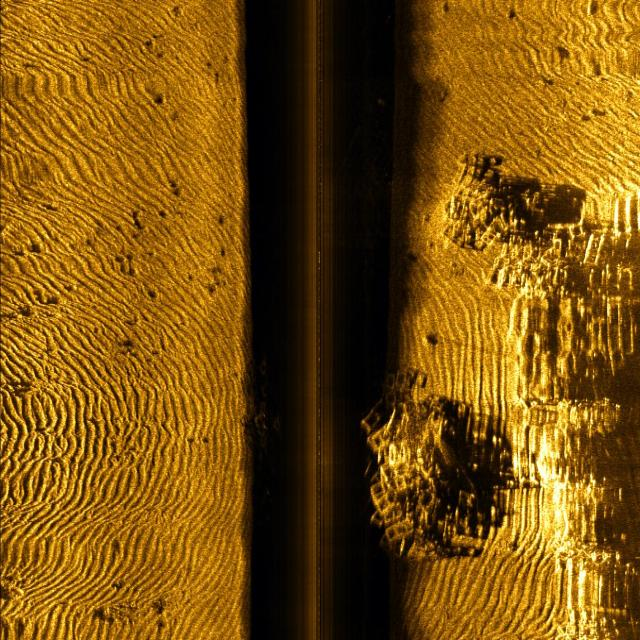artificial reef: (421, 138, 574, 308), (356, 378, 494, 564), (254, 354, 292, 470)
